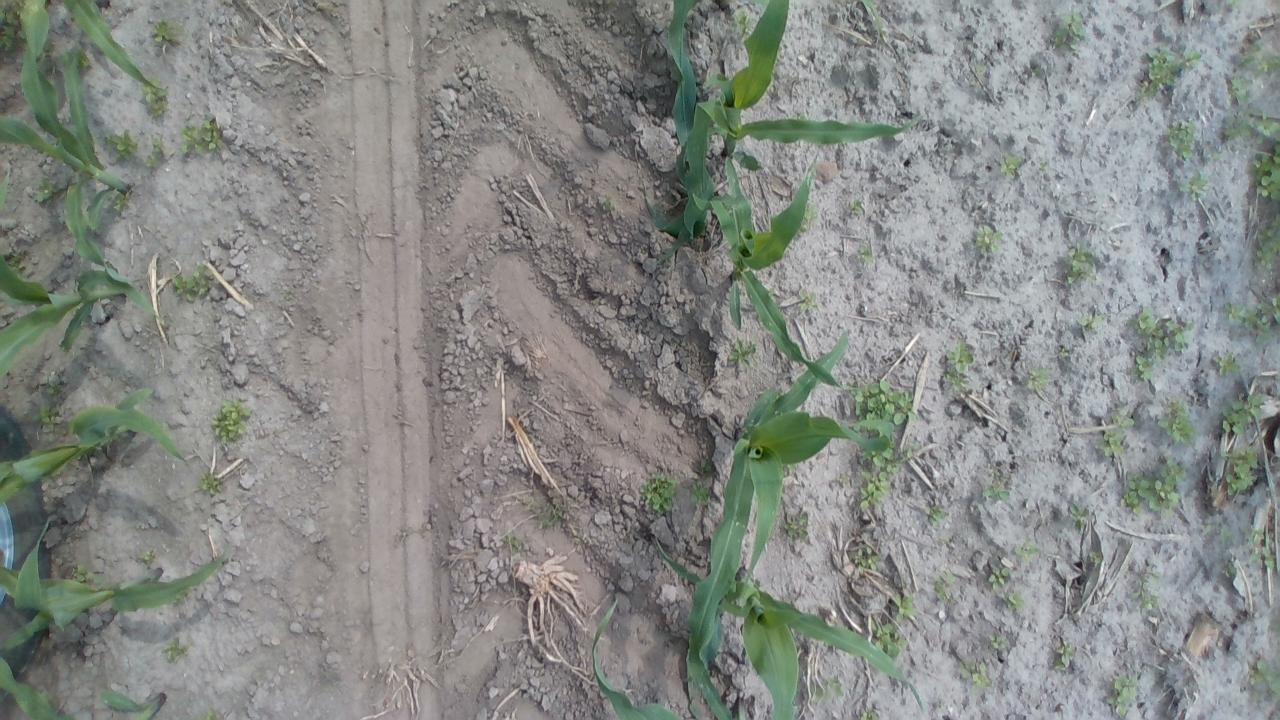Maize: (688, 324, 896, 673), (0, 0, 166, 328), (677, 0, 929, 211), (654, 534, 934, 720), (691, 164, 852, 404), (0, 519, 238, 659), (0, 177, 164, 378), (650, 0, 760, 249), (0, 388, 196, 508), (45, 0, 168, 93), (590, 595, 681, 720), (0, 664, 169, 720)
Weeds: (1126, 307, 1192, 379), (1134, 46, 1206, 103), (1118, 461, 1186, 516), (849, 377, 916, 430), (1223, 293, 1279, 342), (1216, 390, 1268, 438), (211, 396, 256, 446), (1217, 106, 1280, 140), (1220, 445, 1262, 496), (638, 469, 679, 516), (178, 118, 225, 159), (1250, 144, 1280, 204), (1158, 397, 1196, 443), (1244, 523, 1280, 570), (867, 616, 908, 656), (170, 264, 213, 302), (943, 340, 976, 389), (1162, 120, 1198, 162), (1108, 670, 1140, 717), (1247, 655, 1280, 700), (1254, 217, 1280, 272), (0, 1, 28, 51), (1239, 42, 1280, 76), (1064, 243, 1097, 285), (102, 128, 142, 162), (1051, 14, 1086, 52), (150, 16, 186, 52), (980, 470, 1013, 505), (141, 81, 170, 120), (971, 224, 1006, 256), (859, 474, 890, 510), (850, 544, 885, 574), (858, 447, 896, 474), (1094, 431, 1128, 461), (532, 502, 566, 532), (1134, 576, 1160, 614), (728, 337, 758, 369), (1048, 638, 1076, 672), (811, 674, 844, 702), (1223, 74, 1252, 105), (1178, 171, 1210, 199), (36, 400, 64, 432), (1210, 348, 1239, 378), (889, 591, 918, 620), (963, 662, 993, 690), (786, 514, 812, 546), (197, 470, 226, 498), (62, 44, 91, 72), (998, 150, 1025, 179), (162, 638, 192, 664), (931, 574, 958, 602), (34, 177, 62, 204), (731, 7, 755, 37), (921, 500, 950, 524), (798, 204, 821, 234), (66, 565, 102, 584), (146, 136, 168, 167), (499, 532, 526, 556), (1027, 368, 1051, 394), (689, 478, 711, 506), (1065, 503, 1091, 526), (1077, 311, 1104, 332), (986, 565, 1010, 588), (986, 633, 1010, 655), (796, 290, 820, 312), (1002, 590, 1026, 612), (1016, 540, 1042, 560), (1218, 555, 1238, 580), (856, 243, 878, 265), (1110, 411, 1136, 428), (44, 376, 62, 400), (110, 193, 130, 213), (695, 458, 715, 478), (1034, 158, 1054, 178), (901, 444, 921, 462), (598, 197, 617, 215), (194, 708, 228, 718), (846, 196, 864, 214), (137, 550, 156, 566), (1056, 344, 1072, 360), (857, 708, 880, 719), (1088, 548, 1102, 566), (1218, 527, 1232, 545), (1270, 620, 1280, 640)
